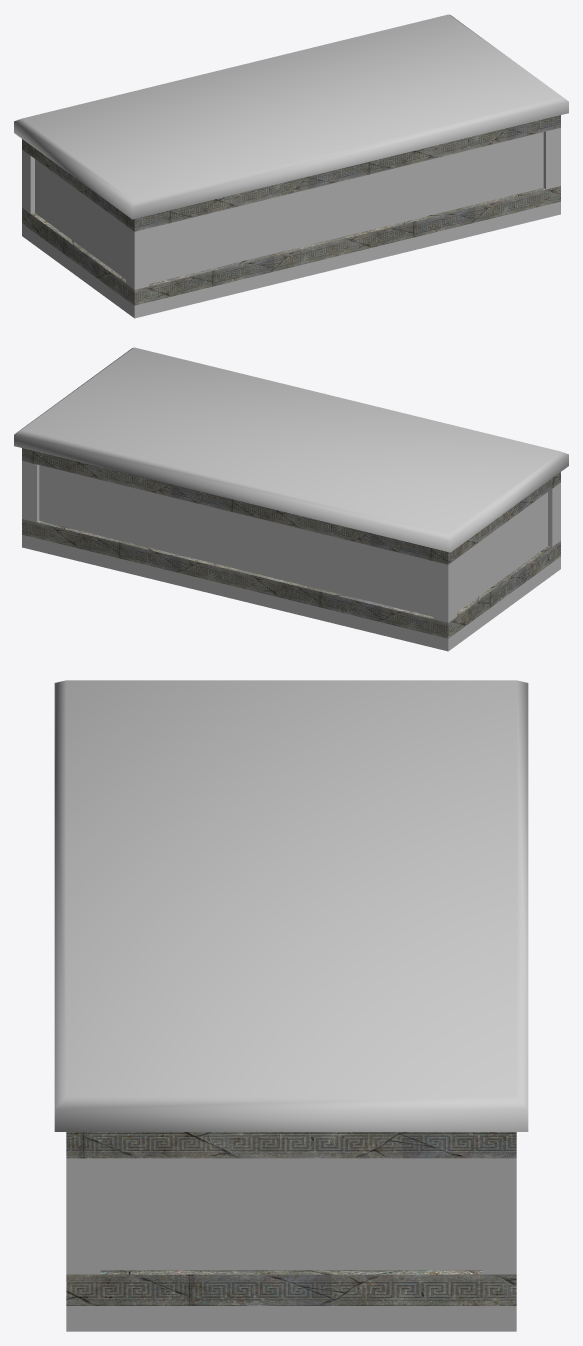
The model's file is Tomb_2.FBX.
3 views of the same model, one above another, from view 1: azimuth 30°, elevation 25°; view 2: azimuth 150°, elevation 25°; view 3: azimuth 270°, elevation 25° (orthographic). The views are drawn at different scales.
Visible parts, largest first — view 1: Box05, Object16; view 2: Box05, Object16; view 3: Box05, Object16.
Part boxes in pixels (x1,y1,x2,y2): Box05: (14, 14, 568, 219); Object16: (22, 115, 560, 318); Box05: (14, 347, 568, 552); Object16: (22, 448, 560, 651); Box05: (54, 680, 528, 1131); Object16: (66, 1132, 516, 1331).
Size of the model in its own units: 304 by 78.14 by 143.
